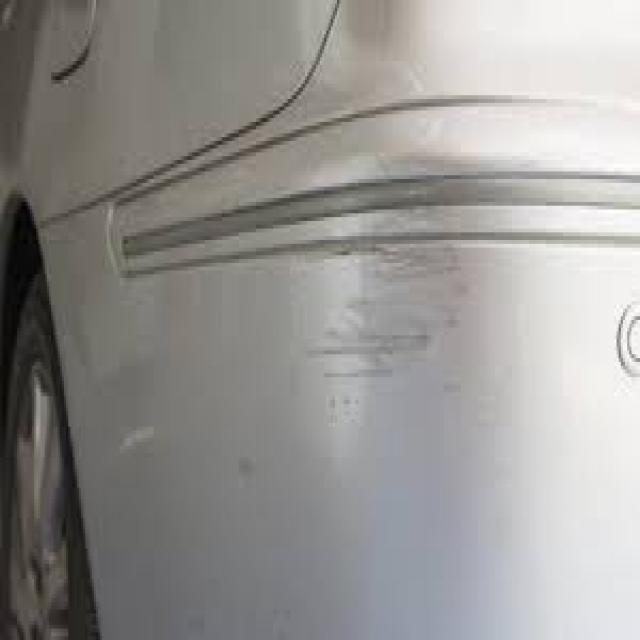minor: (297, 181, 459, 401)
